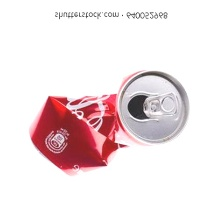can: (22, 63, 199, 181)
